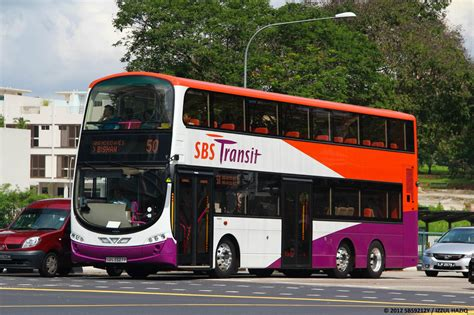bus: (83, 79, 418, 278)
car: (1, 197, 70, 273), (423, 226, 474, 276)
